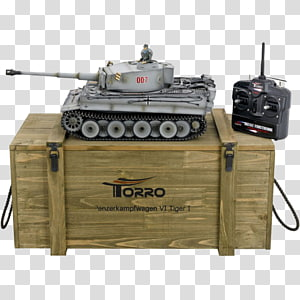Battle Tank: (28, 53, 217, 143)
